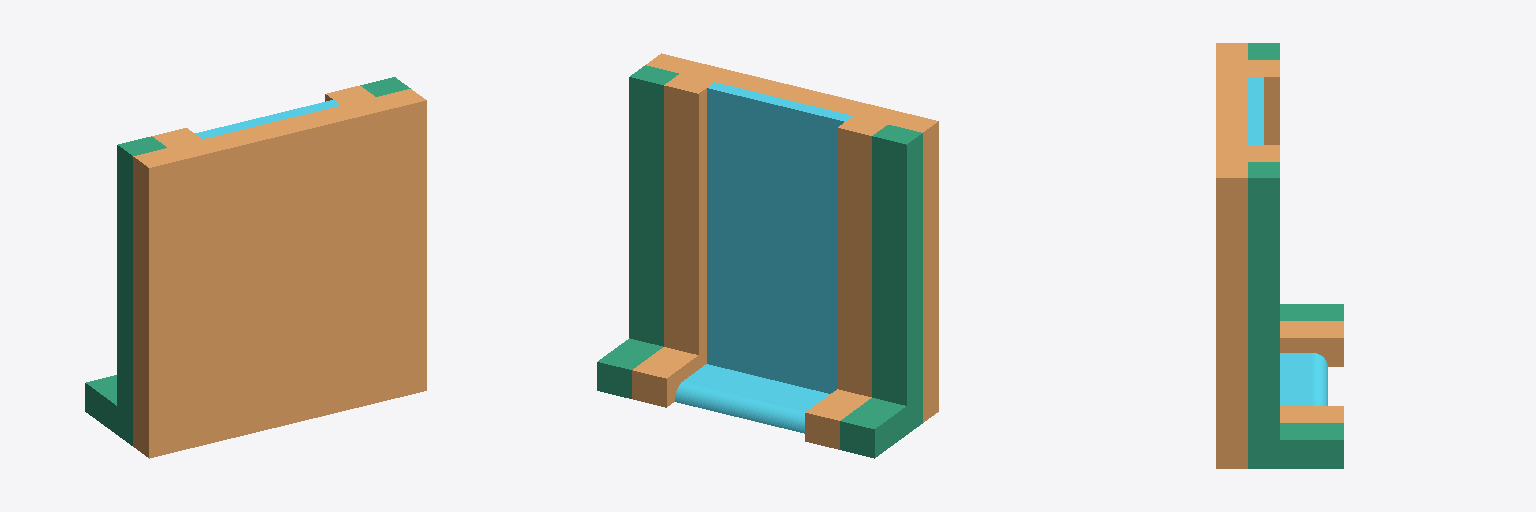
File: tile_riverFall.obj
The picture shows the model from 3 angles: view 1: azimuth 30°, elevation 25°; view 2: azimuth 150°, elevation 25°; view 3: azimuth 270°, elevation 25°; orthographic projection.
Visible parts, largest first — view 1: tile_riverFall; view 2: tile_riverFall; view 3: tile_riverFall.
Boxes of the visible parts, box(x1,y1,x2,y2) form: tile_riverFall: box(85, 77, 426, 458); tile_riverFall: box(597, 53, 938, 458); tile_riverFall: box(1216, 43, 1343, 468).
Size of the model in its own units: 1 by 1 by 0.4.